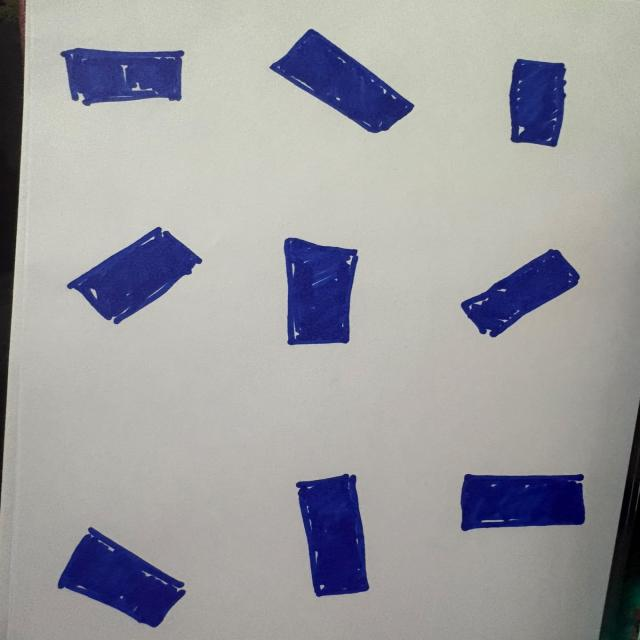Rectangle: (269, 30, 413, 132), (68, 227, 202, 324), (59, 528, 185, 627), (461, 250, 579, 337), (297, 474, 368, 596), (284, 238, 358, 345), (60, 48, 182, 105), (461, 474, 585, 530), (509, 59, 565, 146)
